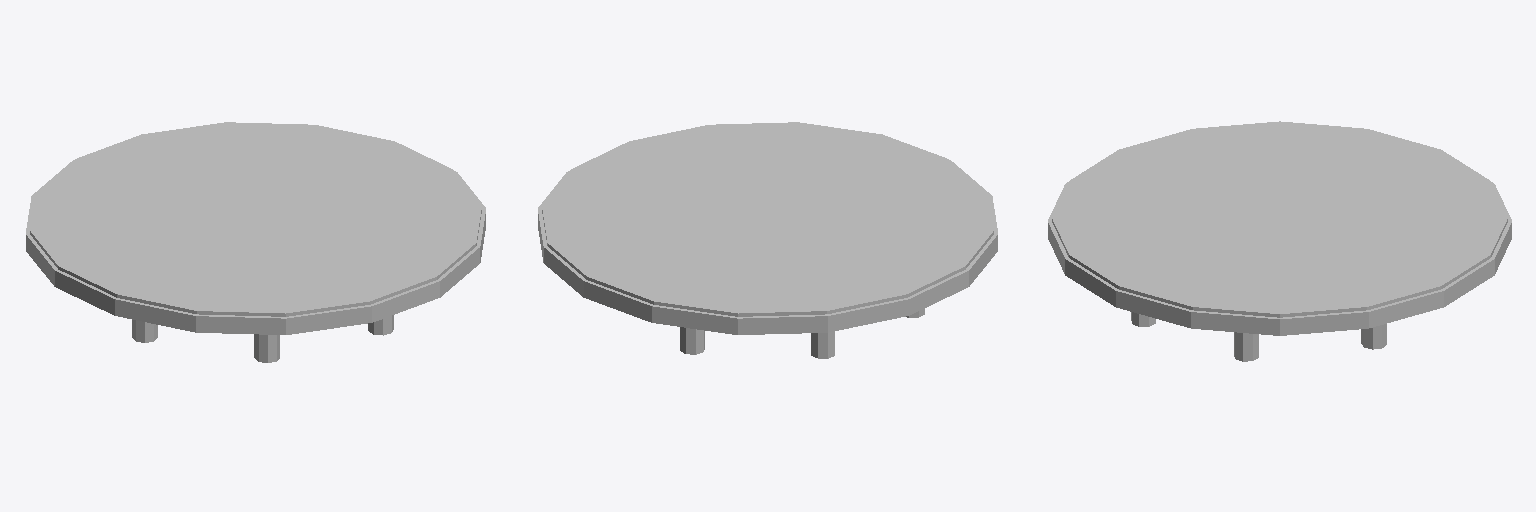
File: table.obj
3 views of the same model, side by side, from view 1: azimuth 30°, elevation 25°; view 2: azimuth 150°, elevation 25°; view 3: azimuth 270°, elevation 25° (orthographic).
Parts seen in each view (by area): view 1: table_Coffee_Table; view 2: table_Coffee_Table; view 3: table_Coffee_Table.
Part boxes in pixels (left/top/right/bottom): table_Coffee_Table: left=26, top=122, right=485, bottom=362; table_Coffee_Table: left=538, top=122, right=997, bottom=358; table_Coffee_Table: left=1048, top=121, right=1511, bottom=361.
Bounding box in the file's own units: 4.79 × 0.8664 × 4.79.